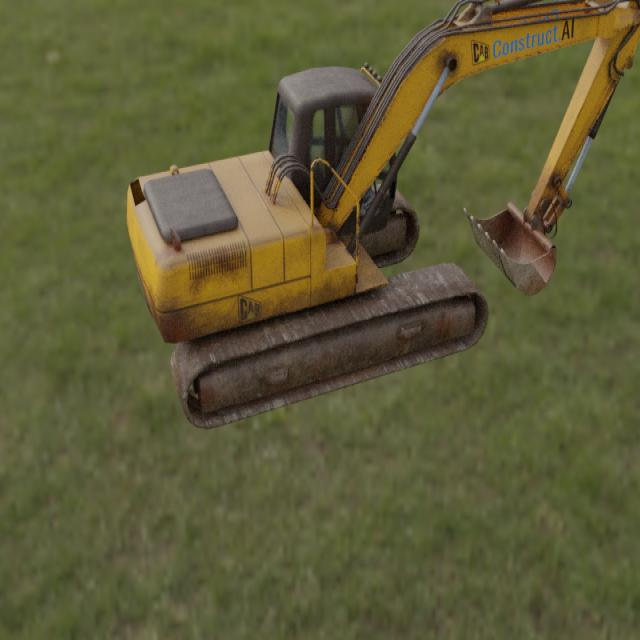excavator: (126, 0, 640, 431)
